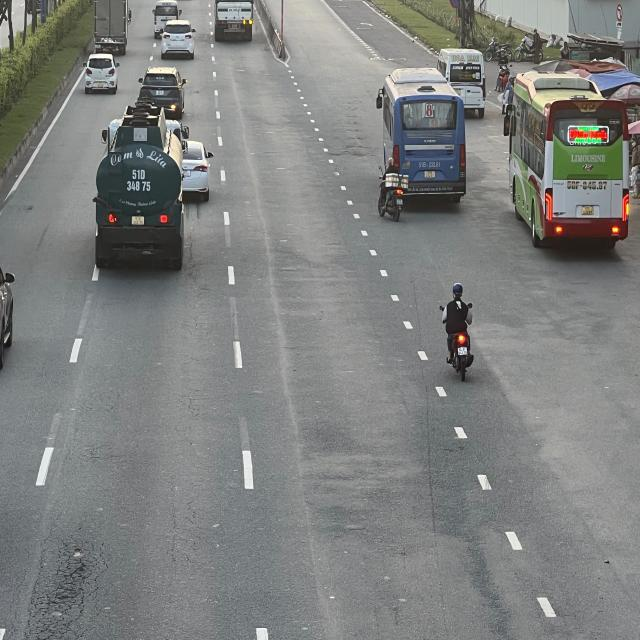car: (138, 66, 188, 114), (178, 144, 214, 202), (160, 20, 198, 59), (82, 54, 119, 94)
coach: (504, 75, 634, 253), (377, 68, 466, 204)
container: (95, 110, 191, 270)
truck: (95, 0, 133, 51), (212, 0, 255, 40)
van: (441, 47, 489, 116), (154, 0, 183, 38)
